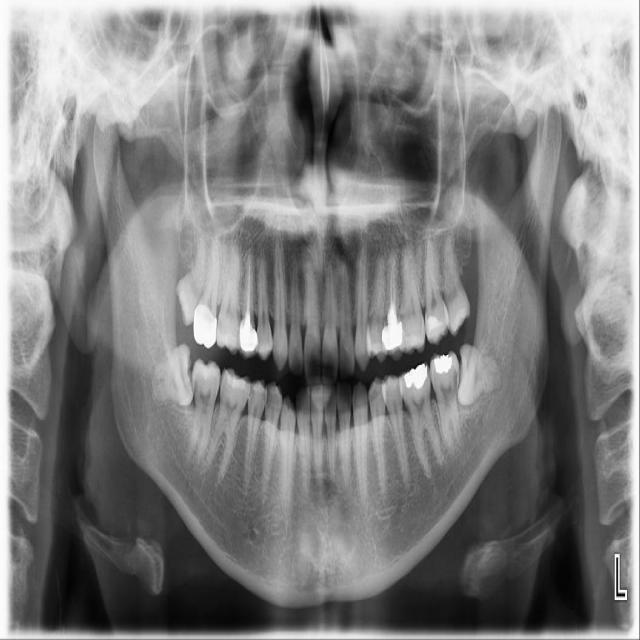Crown: (193, 303, 217, 350), (381, 320, 404, 361), (238, 320, 257, 355)
Filling: (402, 362, 428, 388), (425, 314, 446, 341), (433, 353, 456, 374)
Periapical lesion: (308, 479, 339, 526), (432, 451, 444, 474), (181, 455, 194, 472)
Root Canal Treatment: (392, 272, 396, 315), (247, 262, 250, 312), (390, 272, 393, 308)
impacted tooth: (458, 346, 505, 405), (149, 343, 192, 407)
